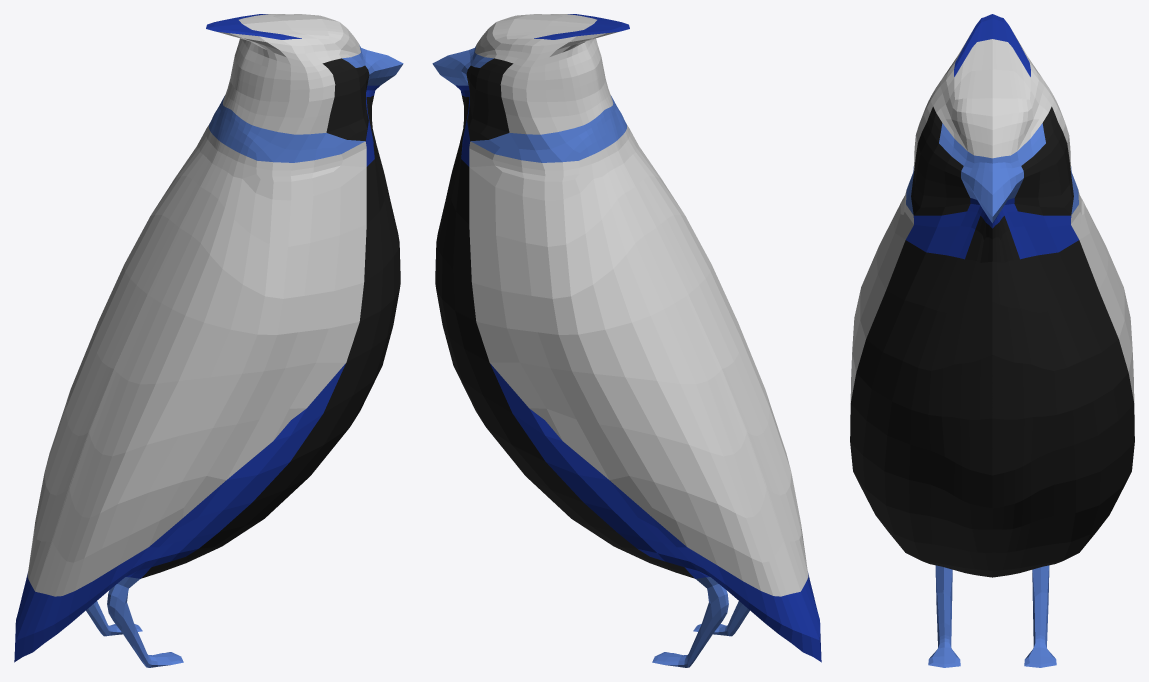
File: bluejay 1.fbx
3 views of the same model, side by side, from view 1: azimuth 30°, elevation 25°; view 2: azimuth 150°, elevation 25°; view 3: azimuth 270°, elevation 25° (orthographic). The views are drawn at different scales.
Visible parts, largest first — view 1: Cube; view 2: Cube; view 3: Cube.
Part boxes in pixels (bbox=[...]): Cube: bbox=[14, 14, 403, 667]; Cube: bbox=[432, 14, 821, 667]; Cube: bbox=[850, 14, 1134, 667].
Bounding box in the file's own units: 271 × 402 × 152.
